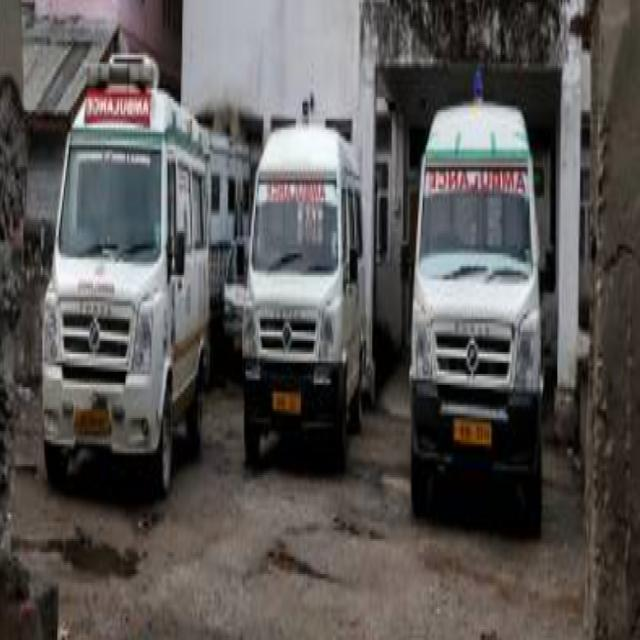emergency_vehicle: (231, 77, 367, 482)
